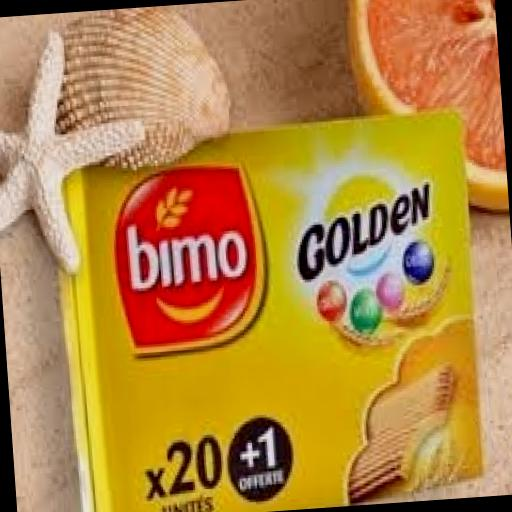golden: (20, 97, 501, 512)
